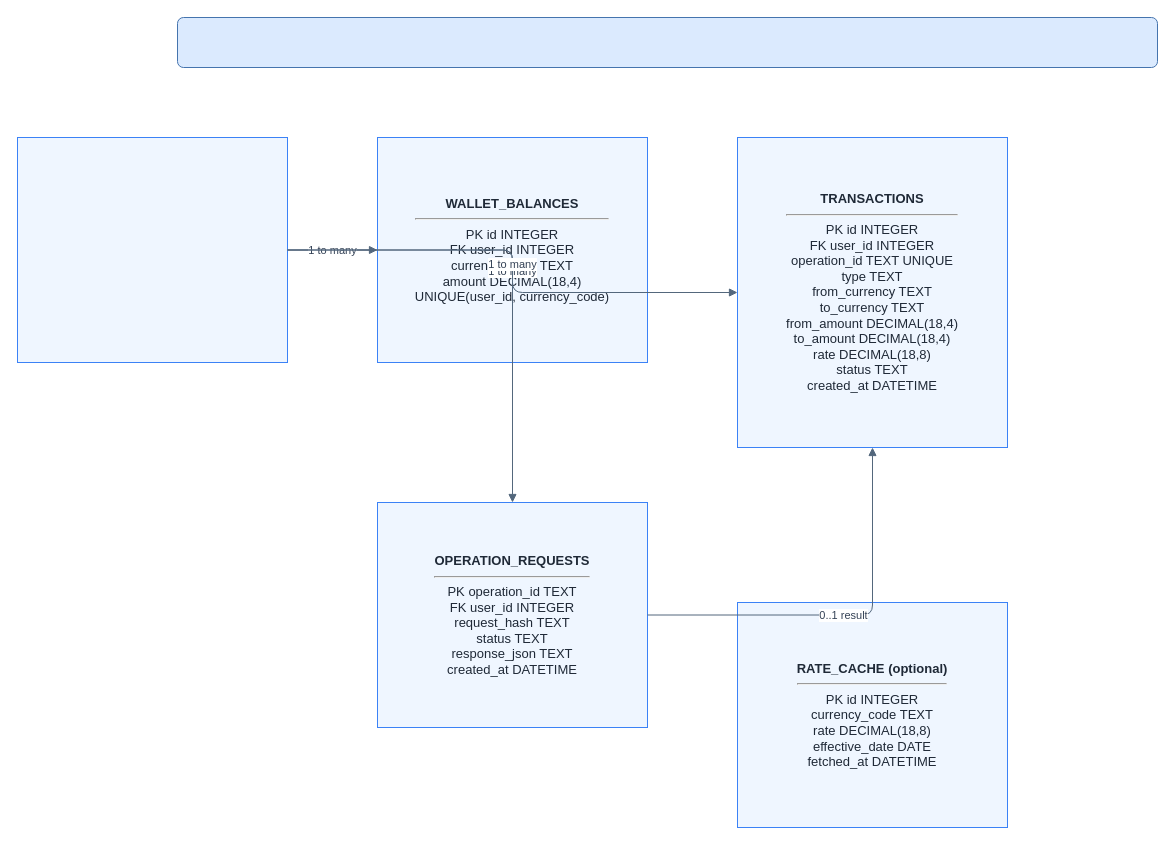
Image size: 1175x845. Some labels were removed from this diagram. Here are the shapes that lost their labels. From the top down, the centre of each, then its label:
pixel 667 42: Database ERD — SQLite (Conceptual Design)
pixel 152 249: USERS PK id INTEGER email TEXT UNIQUE password_hash TEXT created_at DATETIME
